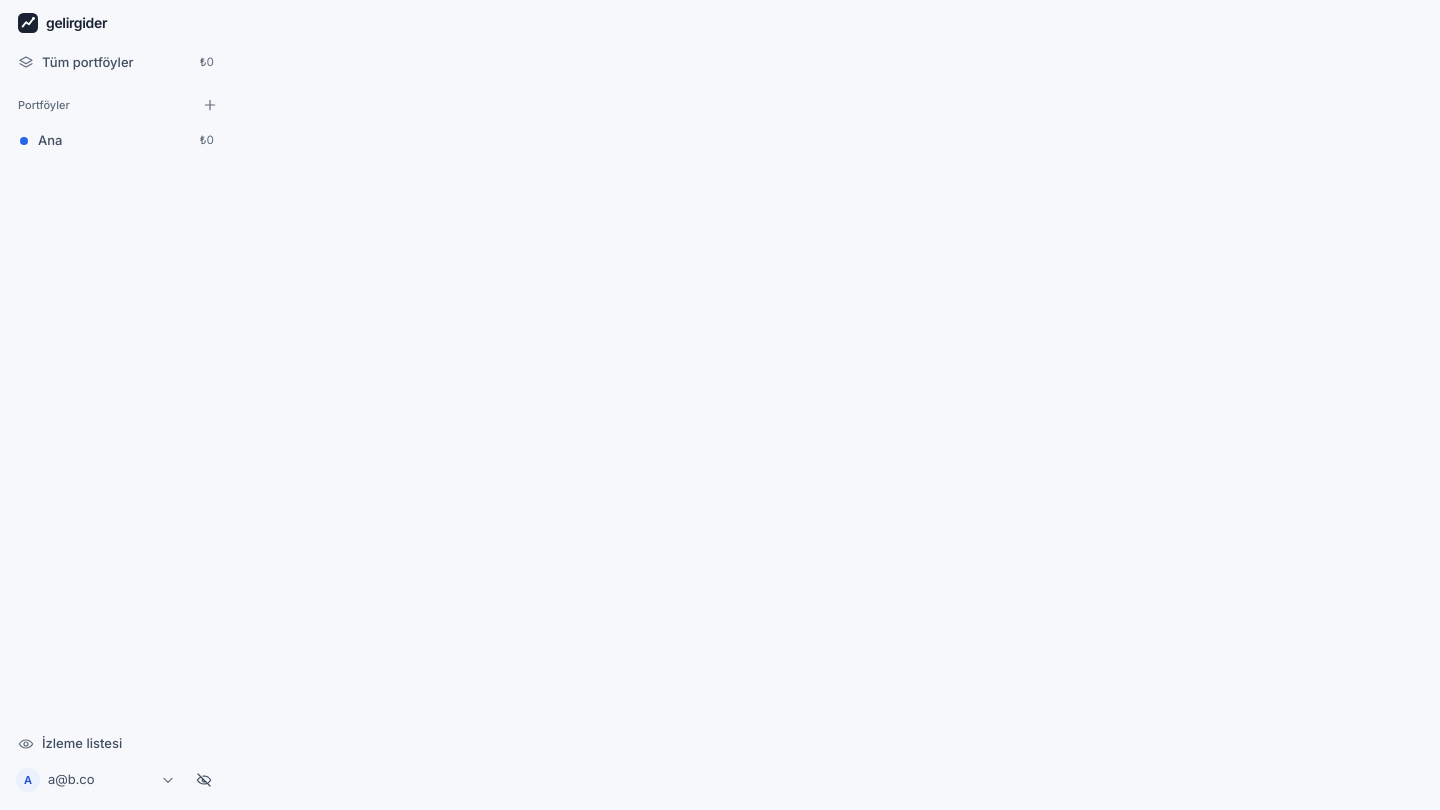
App › never shows the previous user its cached data after logout and login
Check: the link "Ana ₺0" is shown, box [20,132,214,148]
Click the button with aria-label "Hesap menüsü": (96, 780) [10,762,182,798]
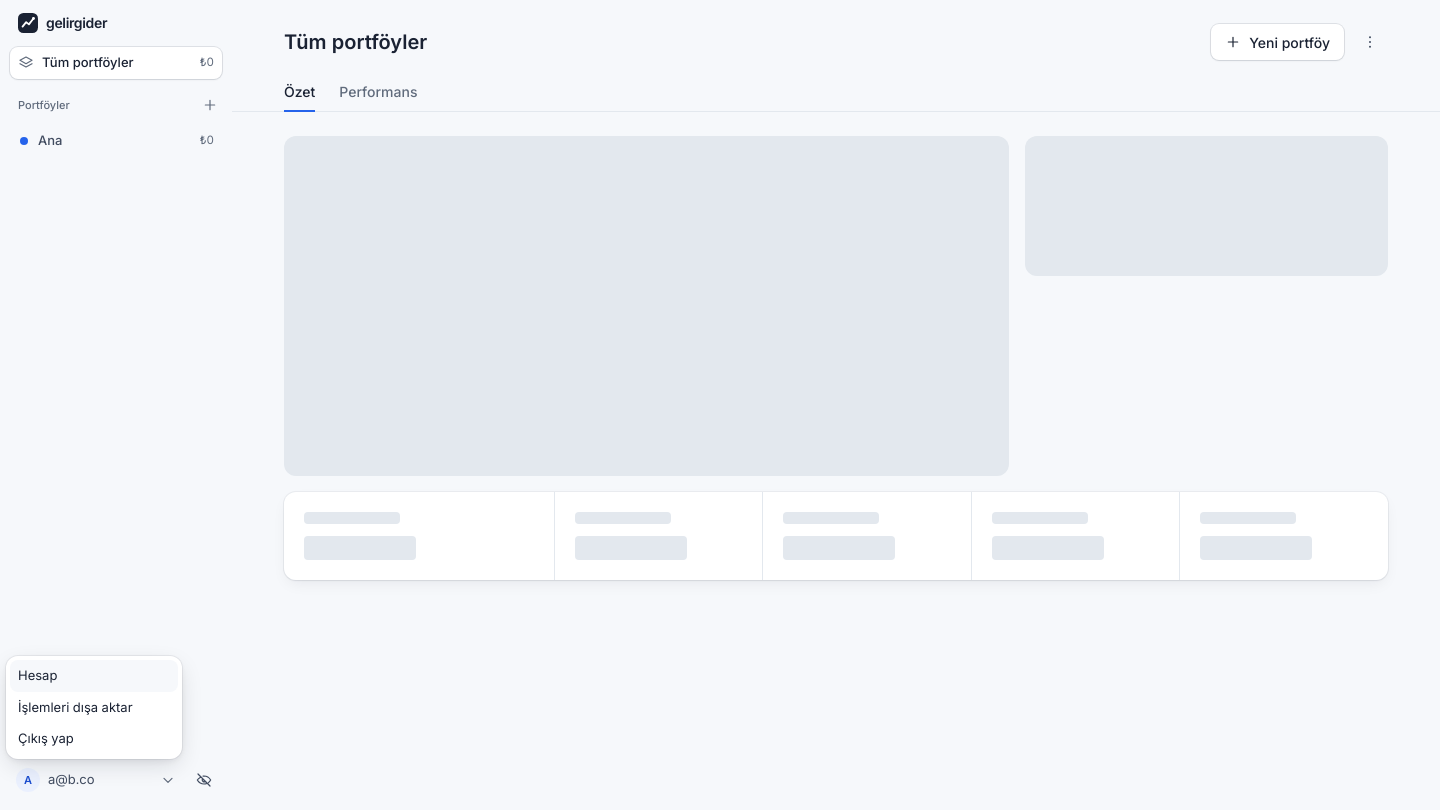
Click the menu item "Çıkış yap": (46, 738) [18,730,74,746]
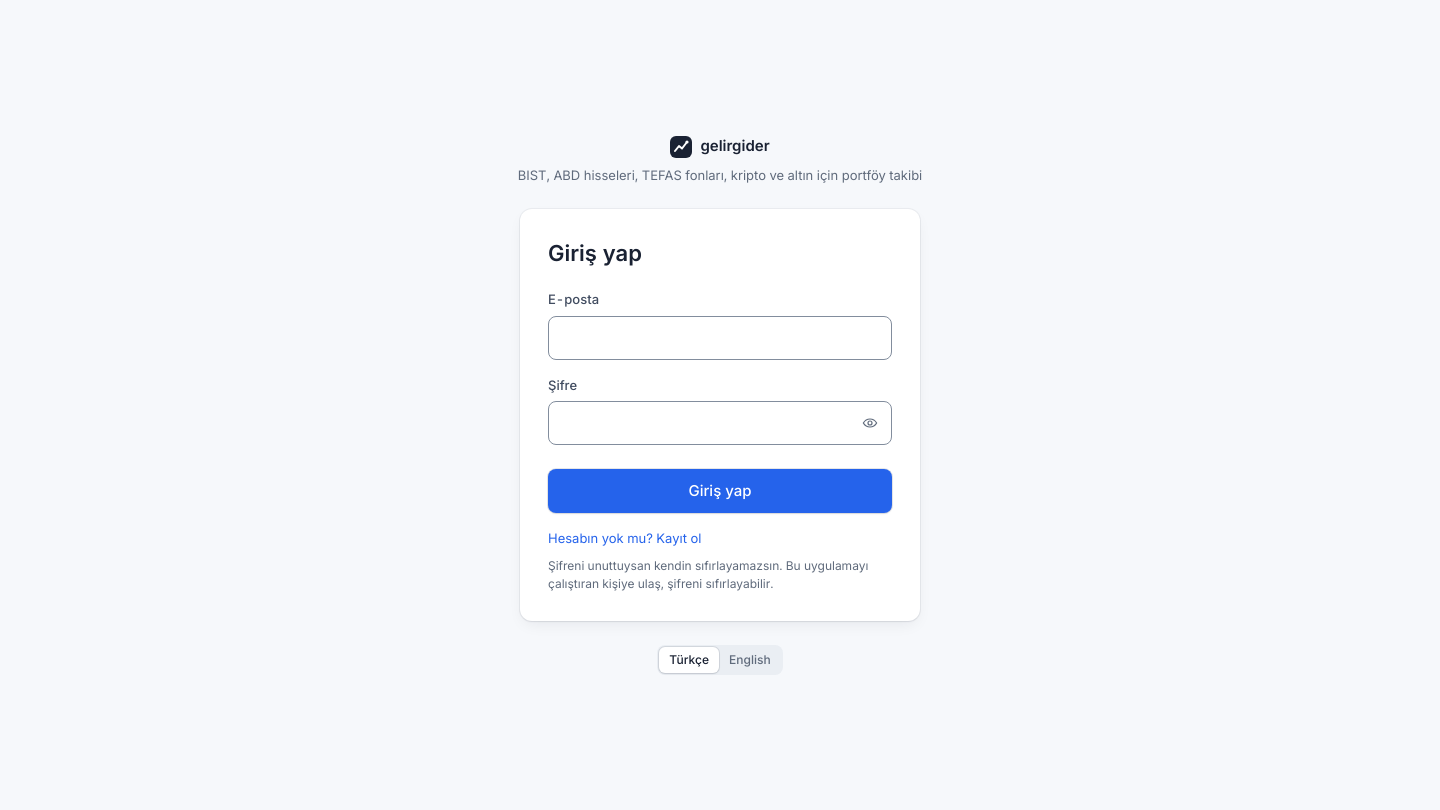
In the field labelled "E-posta": (720, 338) [548,316,892,360], type "b@b.co"
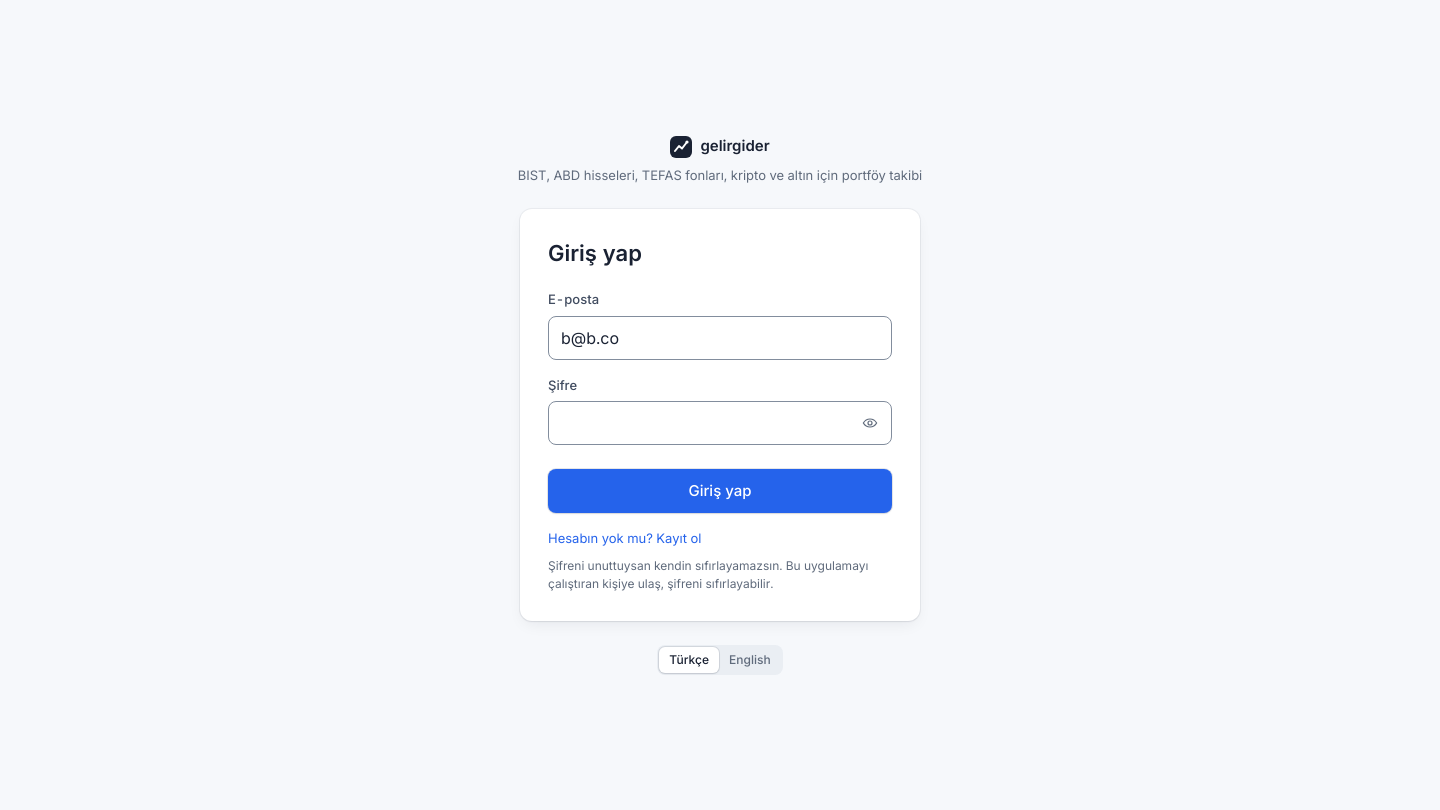
In the password field labelled "Şifre": (720, 423) [548,401,892,445], type "secret123"
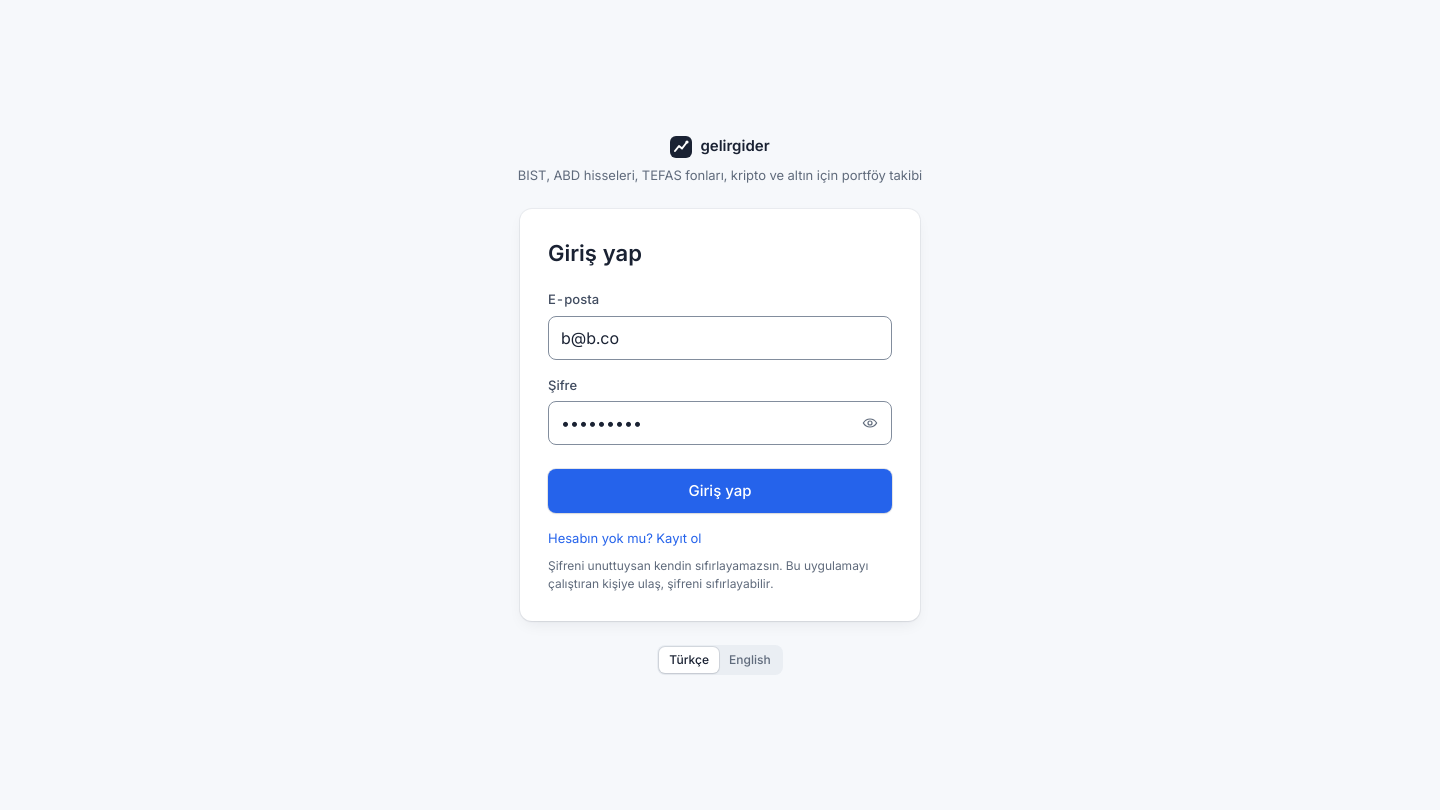
Click the button "Giriş yap": (720, 491) [548,469,892,513]
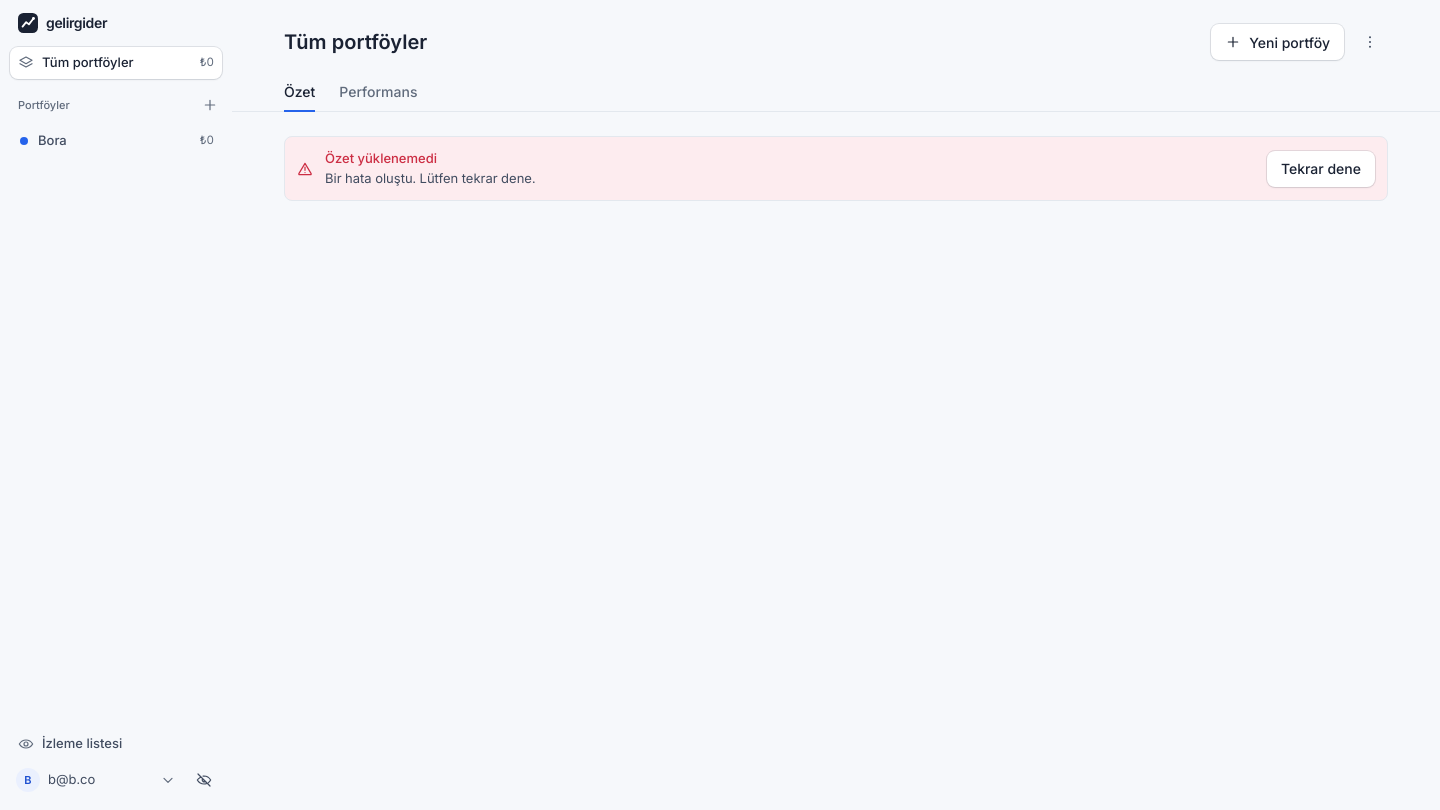
Check: the link "Ana" is not shown
Check: the text "b@b.co" is shown, box [48,770,95,790]
Check: the text "Bora" is shown, box [38,131,67,151]
